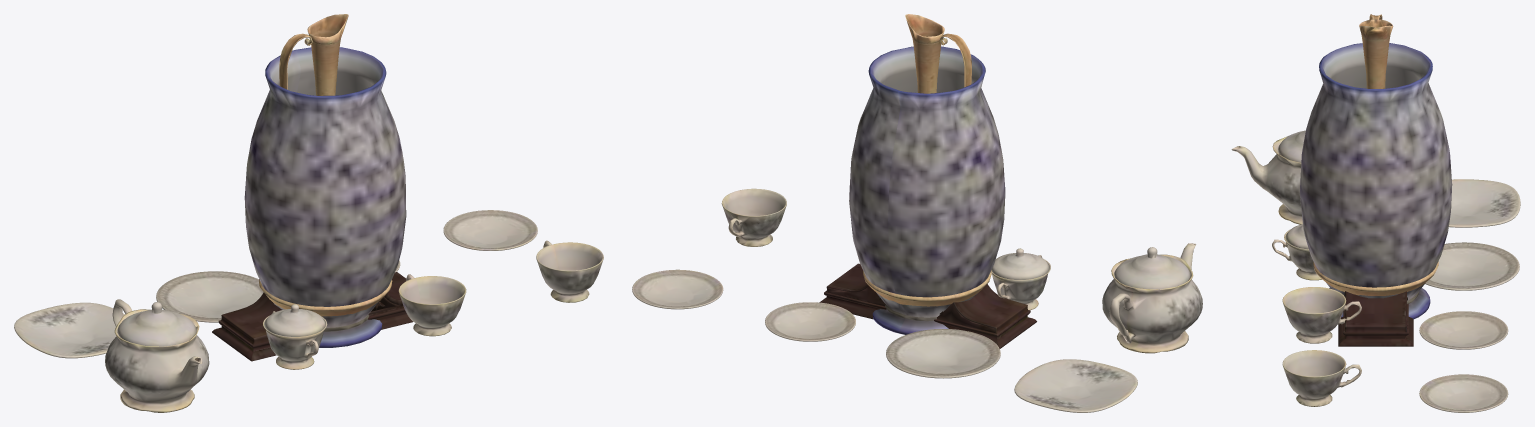
The model's file is store.glb.
The picture shows the model from 3 angles, left to right: view 1: azimuth 30°, elevation 25°; view 2: azimuth 150°, elevation 25°; view 3: azimuth 270°, elevation 25°; orthographic projection. The views are drawn at different scales.
Visible parts, largest first — view 1: antique_ceramic_vase_01, tea_set_01_teapot_01, tea_set_01_plate_large_square_01, tea_set_01_plate_large_circular_03, brass_vase_02, mantel_clock_01, tea_set_01_cup_small_02, tea_set_01_cup_small_01, tea_set_01_saucer_circular_03, tea_set_01_teapot_01_lid, tea_set_01_sugar_cup_01, tea_set_01_sugar_cup_01_lid; view 2: antique_ceramic_vase_01, tea_set_01_teapot_01, mantel_clock_01, tea_set_01_plate_large_square_01, tea_set_01_plate_large_circular_03, brass_vase_02, tea_set_01_saucer_circular_04, tea_set_01_cup_small_02, tea_set_01_saucer_circular_03, tea_set_01_teapot_01_lid, tea_set_01_sugar_cup_01_lid, tea_set_01_sugar_cup_01; view 3: antique_ceramic_vase_01, mantel_clock_01, tea_set_01_plate_large_circular_03, tea_set_01_plate_large_square_01, tea_set_01_cup_small_02, tea_set_01_cup_small_01, brass_vase_02, tea_set_01_saucer_circular_04, tea_set_01_saucer_circular_03, tea_set_01_teapot_01, tea_set_01_sugar_cup_01, tea_set_01_teapot_01_lid (+1 smaller).
Boxes of the visible parts, box(x1,y1,x2,y2) form: antique_ceramic_vase_01: box(244, 47, 406, 347); tea_set_01_teapot_01: box(105, 299, 209, 412); tea_set_01_plate_large_square_01: box(14, 302, 124, 358); tea_set_01_plate_large_circular_03: box(156, 271, 263, 322); brass_vase_02: box(259, 14, 392, 316); mantel_clock_01: box(212, 272, 412, 361); tea_set_01_cup_small_02: box(536, 240, 603, 302); tea_set_01_cup_small_01: box(398, 274, 466, 336); tea_set_01_saucer_circular_03: box(443, 210, 537, 250); tea_set_01_teapot_01_lid: box(117, 302, 196, 346); tea_set_01_sugar_cup_01: box(263, 311, 327, 369); tea_set_01_sugar_cup_01_lid: box(264, 304, 325, 336); antique_ceramic_vase_01: box(849, 46, 1005, 334); tea_set_01_teapot_01: box(1102, 243, 1202, 353); mantel_clock_01: box(819, 263, 1036, 348); tea_set_01_plate_large_square_01: box(1014, 359, 1137, 412); tea_set_01_plate_large_circular_03: box(886, 329, 1000, 378); brass_vase_02: box(863, 14, 991, 306); tea_set_01_saucer_circular_04: box(765, 302, 855, 341); tea_set_01_cup_small_02: box(721, 188, 786, 246); tea_set_01_saucer_circular_03: box(632, 269, 723, 309); tea_set_01_teapot_01_lid: box(1114, 247, 1190, 289); tea_set_01_sugar_cup_01_lid: box(991, 248, 1049, 279); tea_set_01_sugar_cup_01: box(991, 255, 1050, 310); antique_ceramic_vase_01: box(1299, 43, 1452, 319); mantel_clock_01: box(1338, 291, 1413, 346); tea_set_01_plate_large_circular_03: box(1425, 242, 1519, 290); tea_set_01_plate_large_square_01: box(1449, 179, 1520, 227); tea_set_01_cup_small_02: box(1282, 350, 1361, 406); tea_set_01_cup_small_01: box(1282, 287, 1361, 343); brass_vase_02: box(1313, 14, 1438, 295); tea_set_01_saucer_circular_04: box(1419, 311, 1508, 349); tea_set_01_saucer_circular_03: box(1419, 374, 1508, 412); tea_set_01_teapot_01: box(1231, 136, 1302, 224); tea_set_01_sugar_cup_01: box(1272, 229, 1321, 280); tea_set_01_teapot_01_lid: box(1278, 130, 1305, 162).
Size of the model in its own units: 0.9183 by 0.5299 by 0.4838.
7 materials, 7 textured.
